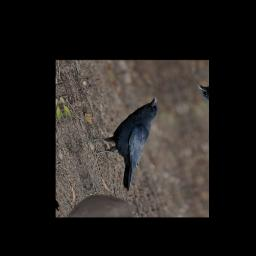Crow: (81, 95, 183, 197)
